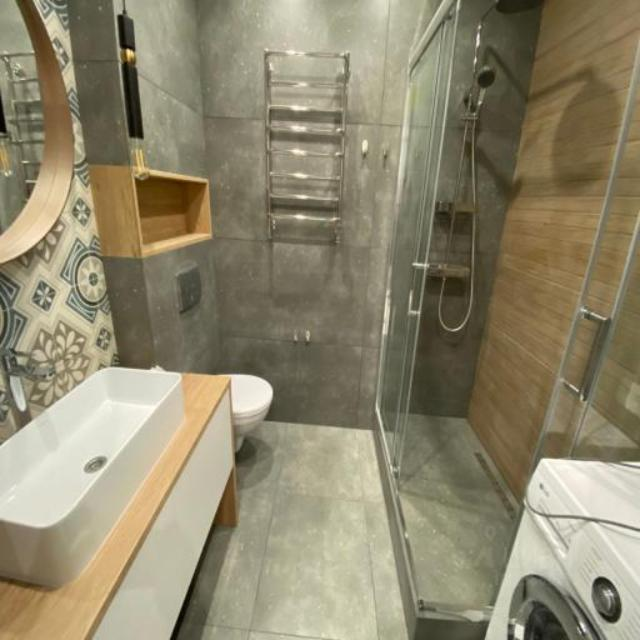Washing-Machine: (472, 456, 638, 638)
